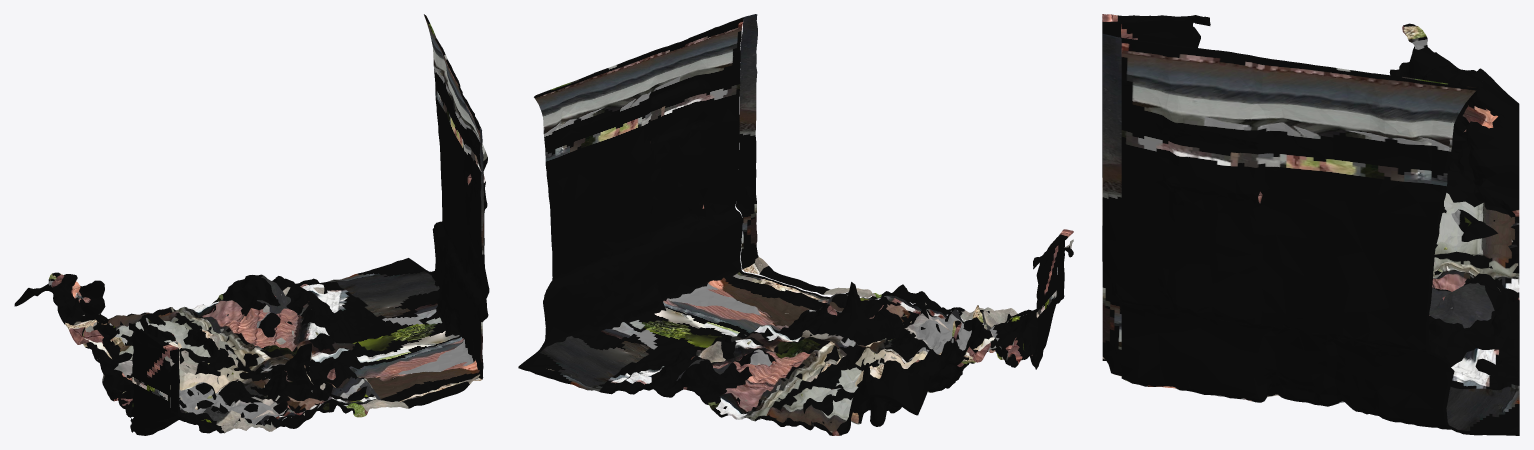
The picture shows the model from 3 angles, left to right: view 1: azimuth 30°, elevation 25°; view 2: azimuth 150°, elevation 25°; view 3: azimuth 270°, elevation 25°; orthographic projection. The views are drawn at different scales.
Parts seen in each view (by area): view 1: node_93; view 2: node_93; view 3: node_93.
Boxes of the visible parts, box(x1,y1,x2,y2) form: node_93: box(14, 14, 489, 435); node_93: box(518, 14, 1073, 435); node_93: box(1102, 14, 1519, 435).
Size of the model in its own units: 7.94 by 5.03 by 5.36.
Materials: 1 (1 with a texture image).
